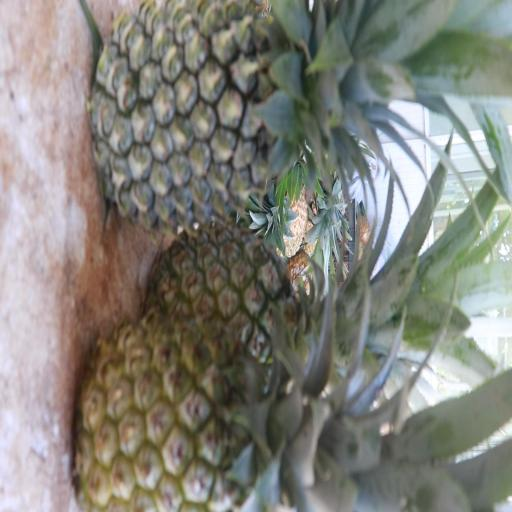------------------------------: (69, 299, 401, 512), (140, 216, 366, 377)
